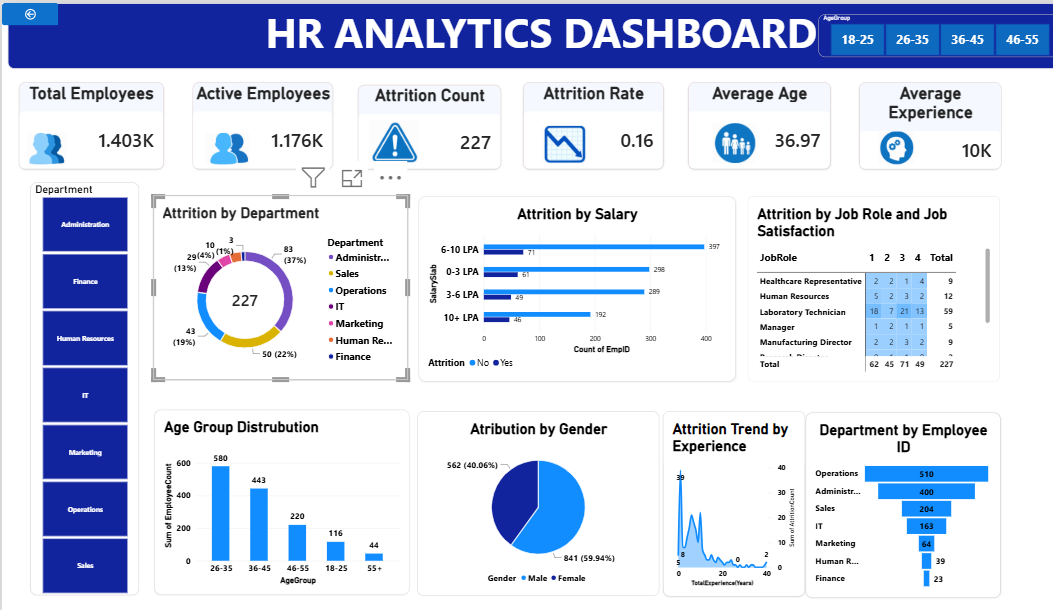

The page's visual inventory and layout, read from the dashboard file:
{"tool":"powerbi","page":{"name":"Page 1","canvas":[1920,1080],"ordinal":0},"visuals":[{"type":"textbox","box":[10.1,0,1889.2,116.6],"z":0},{"type":"actionButton","box":[0,0,100,40],"z":1000},{"type":"cardVisual","title":"Total Employees","fields":{"Data":["CountNonNull(HR_Analytics.EmpID)"]},"box":[30.4,139.5,256.1,154.7],"z":2000},{"type":"cardVisual","title":"Average Age","fields":{"Data":["Avg(HR_Analytics.Age)"]},"box":[1214.7,139.5,251,154.7],"z":3000},{"type":"cardVisual","title":"Active Employees","fields":{"Data":["CountNonNull(HR_Analytics.EmployeeCount)"]},"box":[337.3,139.5,248.5,154.7],"z":4000},{"type":"cardVisual","title":"Average Experience","fields":{"Data":["Sum(HR_Analytics.YearsatCompany)"]},"box":[1516.4,139.5,251,154.7],"z":5000},{"type":"cardVisual","title":"Attrition Count","fields":{"Data":["Sum(HR_Analytics.AttritionCount)"]},"box":[628.9,144.5,253.6,149.6],"z":6000},{"type":"cardVisual","title":"Attrition Rate","fields":{"Data":["HR_Analytics.Attrition Rate %"]},"box":[923,139.5,248.5,154.7],"z":7000},{"type":"image","box":[628.9,207.9,126.8,76.1],"z":8000},{"type":"image","box":[337.3,230.8,124.3,55.8],"z":9000},{"type":"image","box":[30.4,230.8,96.4,55.8],"z":10000},{"type":"image","box":[943.3,218.1,104,65.9],"z":11000},{"type":"image","box":[1250.2,213,91.3,71],"z":12000},{"type":"image","box":[1521.5,228.2,121.7,58.3],"z":13000},{"type":"donutChart","title":"Attrition by Department","fields":{"Category":["HR_Analytics.Department"],"Y":["Sum(HR_Analytics.AttritionCount)"]},"box":[268.3,339.1,451.4,327.1],"z":14000},{"type":"clusteredBarChart","title":"Attrition by Salary","fields":{"Category":["HR_Analytics.SalarySlab"],"Series":["HR_Analytics.Attrition"],"Y":["CountNonNull(HR_Analytics.EmpID)"]},"box":[736.3,341.3,560.4,327.1],"z":15000},{"type":"pivotTable","title":"Attrition by Job Role and Job Satisfaction ","fields":{"Columns":["HR_Analytics.JobSatisfaction"],"Rows":["HR_Analytics.JobRole"],"Values":["Sum(HR_Analytics.AttritionCount)"]},"box":[1321.2,342.3,446.3,327.1],"z":16000},{"type":"columnChart","title":"Age Group Distrubution","fields":{"Category":["HR_Analytics.AgeGroup"],"Y":["Sum(HR_Analytics.EmployeeCount)"]},"box":[268.8,720.2,451,327],"z":17000},{"type":"pieChart","title":"Atribution by Gender","fields":{"Category":["HR_Analytics.Gender"],"Y":["Sum(HR_Analytics.EmployeeCount)"]},"box":[735.4,722.7,428.6,327.1],"z":18000},{"type":"areaChart","title":"Attrition Trend by Experience","fields":{"Category":["HR_Analytics.TotalExperience(Years)"],"Y2":["Sum(HR_Analytics.AttritionCount)"]},"box":[1170.5,723.6,251,328],"z":19000},{"type":"funnel","title":"Department by Employee ID","fields":{"Category":["HR_Analytics.Department"],"Y":["CountNonNull(HR_Analytics.EmpID)"]},"box":[1422,724,345,328],"z":20000},{"type":"slicer","fields":{"Values":["HR_Analytics.Department"]},"box":[50.7,317,192.7,730.3],"z":21000},{"type":"slicer","fields":{"Values":["HR_Analytics.AgeGroup"]},"box":[1445.4,20.3,428.6,76.1],"z":22000}]}

Visuals, with their boxes in screenshot pixels (x1, y1, x2, y2), scaled from the page's 1920x1080 canvas onto the 1053x610 screenshot:
textbox: (6, 0, 1042, 66)
actionButton: (0, 0, 55, 23)
"Total Employees" cardVisual: (17, 79, 157, 166)
"Average Age" cardVisual: (666, 79, 804, 166)
"Active Employees" cardVisual: (185, 79, 321, 166)
"Average Experience" cardVisual: (832, 79, 969, 166)
"Attrition Count" cardVisual: (345, 82, 484, 166)
"Attrition Rate" cardVisual: (506, 79, 642, 166)
image: (345, 117, 414, 160)
image: (185, 130, 253, 162)
image: (17, 130, 70, 162)
image: (517, 123, 574, 160)
image: (686, 120, 736, 160)
image: (834, 129, 901, 162)
"Attrition by Department" donutChart: (147, 192, 395, 376)
"Attrition by Salary" clusteredBarChart: (404, 193, 711, 378)
"Attrition by Job Role and Job Satisfaction " pivotTable: (725, 193, 969, 378)
"Age Group Distrubution" columnChart: (147, 407, 395, 591)
"Atribution by Gender" pieChart: (403, 408, 638, 593)
"Attrition Trend by Experience" areaChart: (642, 409, 780, 594)
"Department by Employee ID" funnel: (780, 409, 969, 594)
slicer - HR_Analytics.Department: (28, 179, 133, 592)
slicer - HR_Analytics.AgeGroup: (793, 11, 1028, 54)
